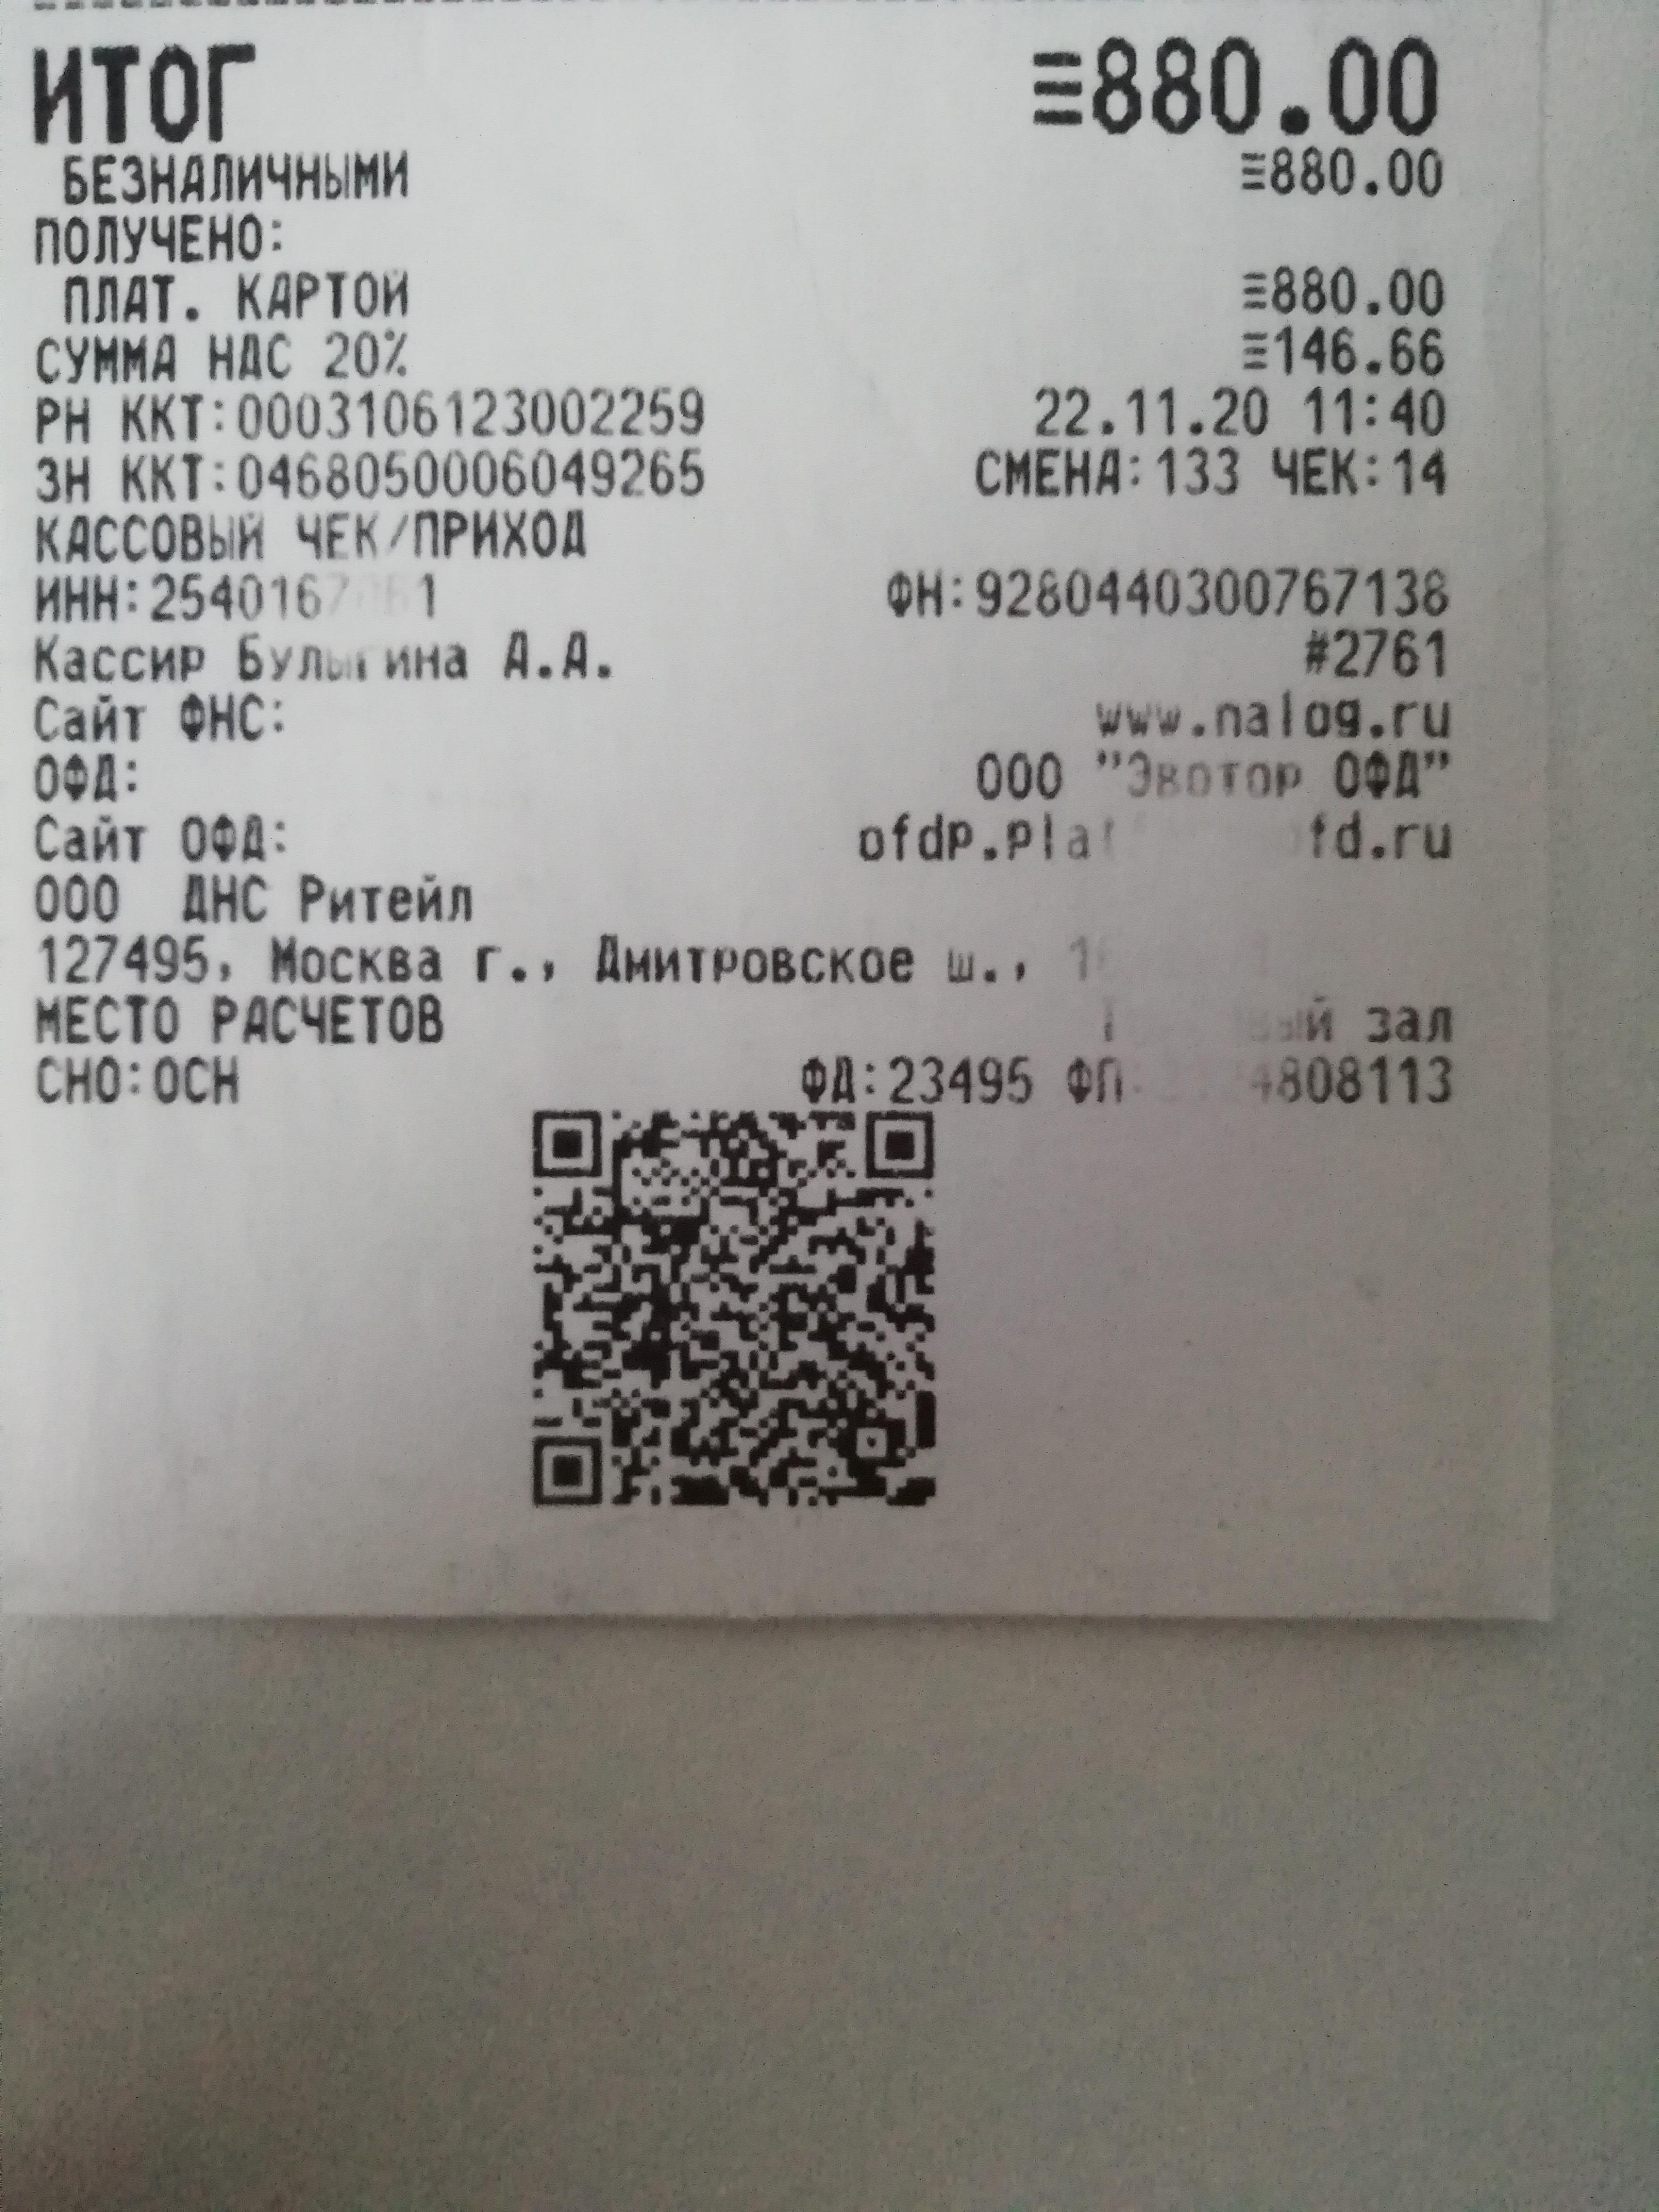qrcode: (532, 1106, 945, 1514)
